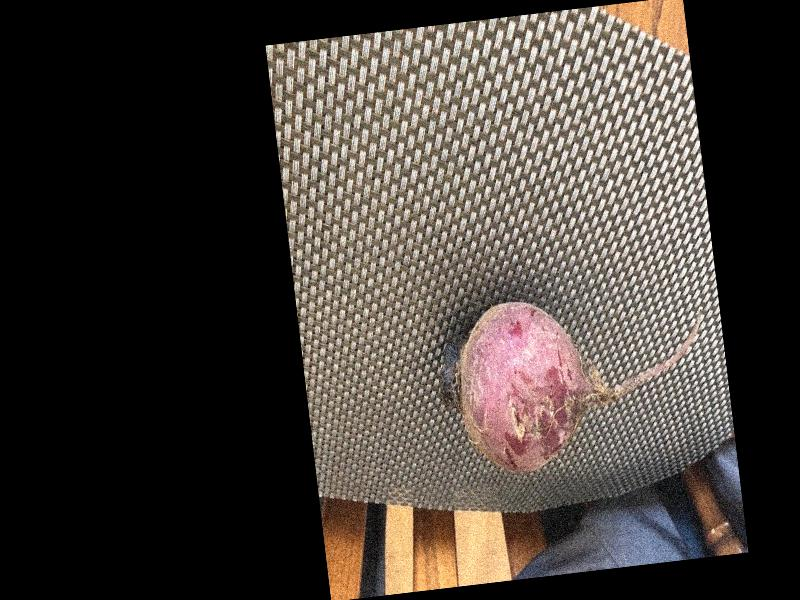Beet: (428, 281, 713, 483)
